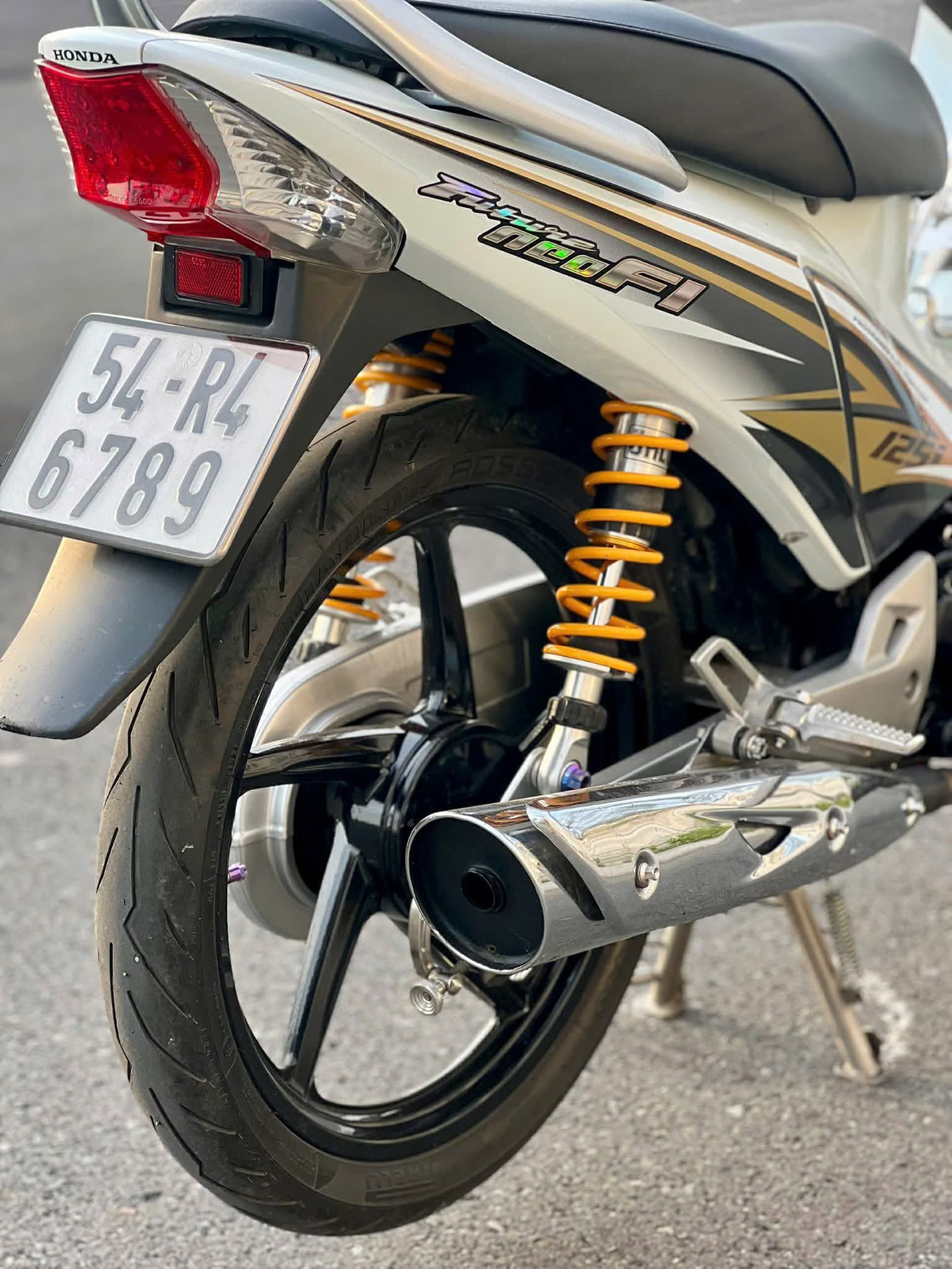bien_so: (1, 305, 327, 575)
